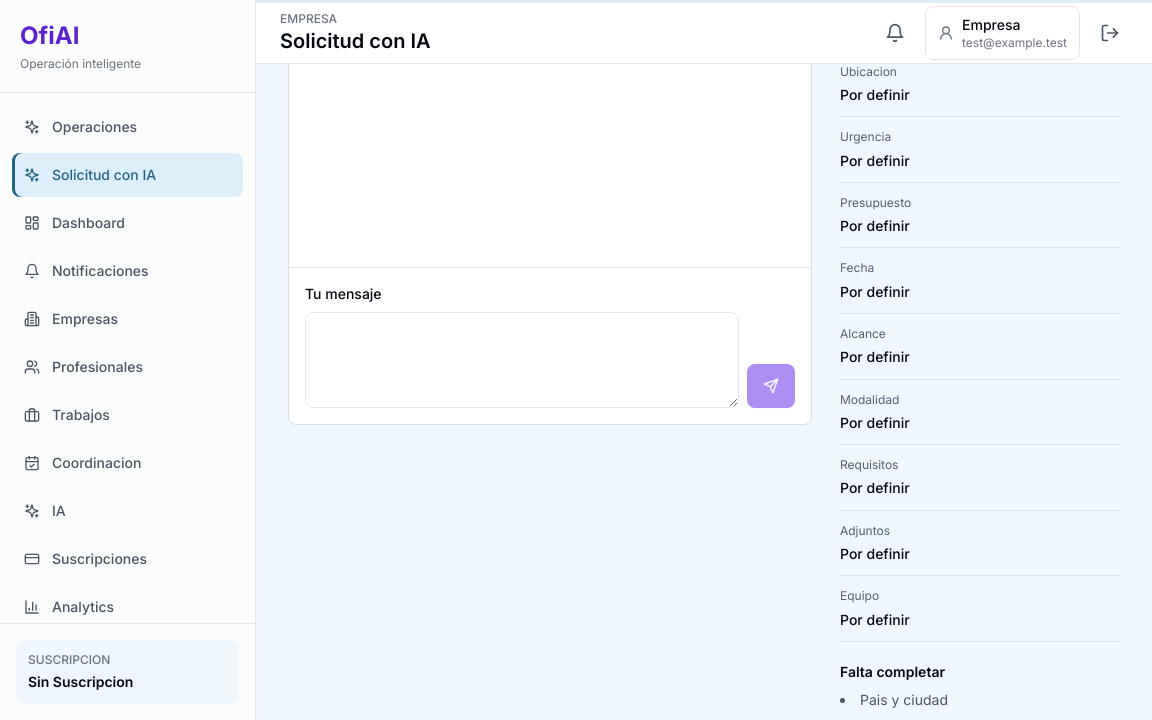
Scenario: recupera contexto y exige volver a completar datos despues de una correccion
The width and height of the screenshot is (1152, 720).
(page scrolled)
Step 1. Type "Detalle completo del edificio." into the text box labelled "Tu mensaje" → (522, 360), box [305,312,739,408]
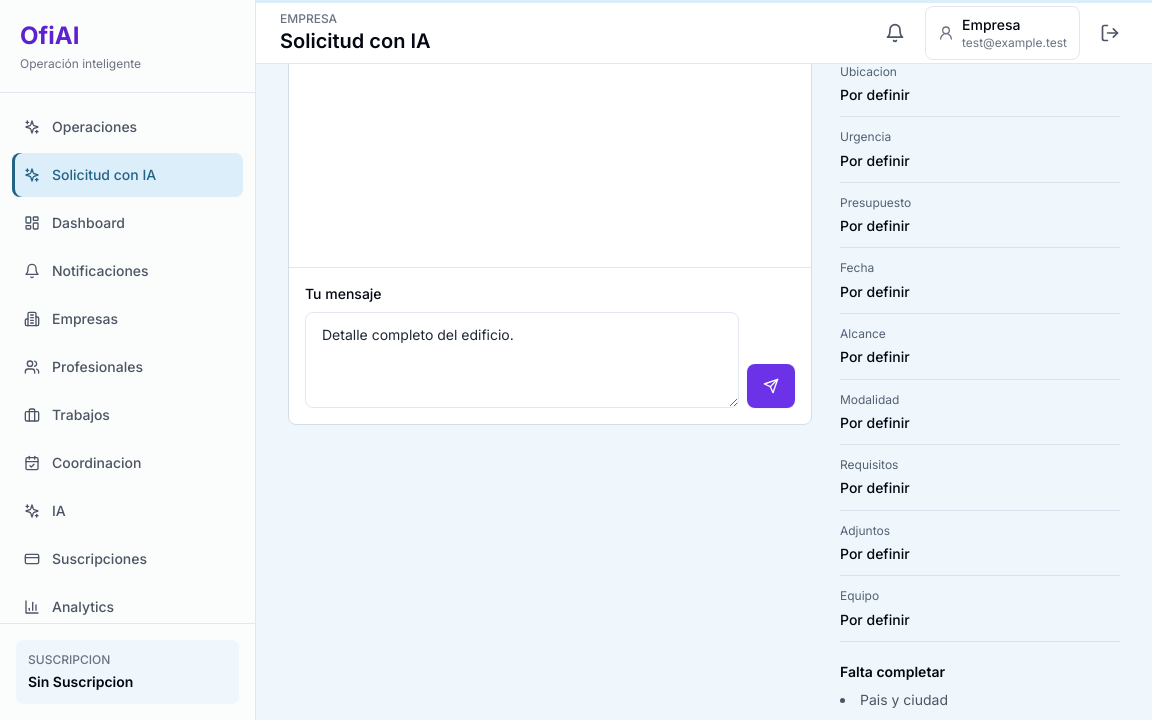
Step 2. Click the button named "Enviar mensaje" → (771, 386), box [747,364,795,408]
(page scrolled)
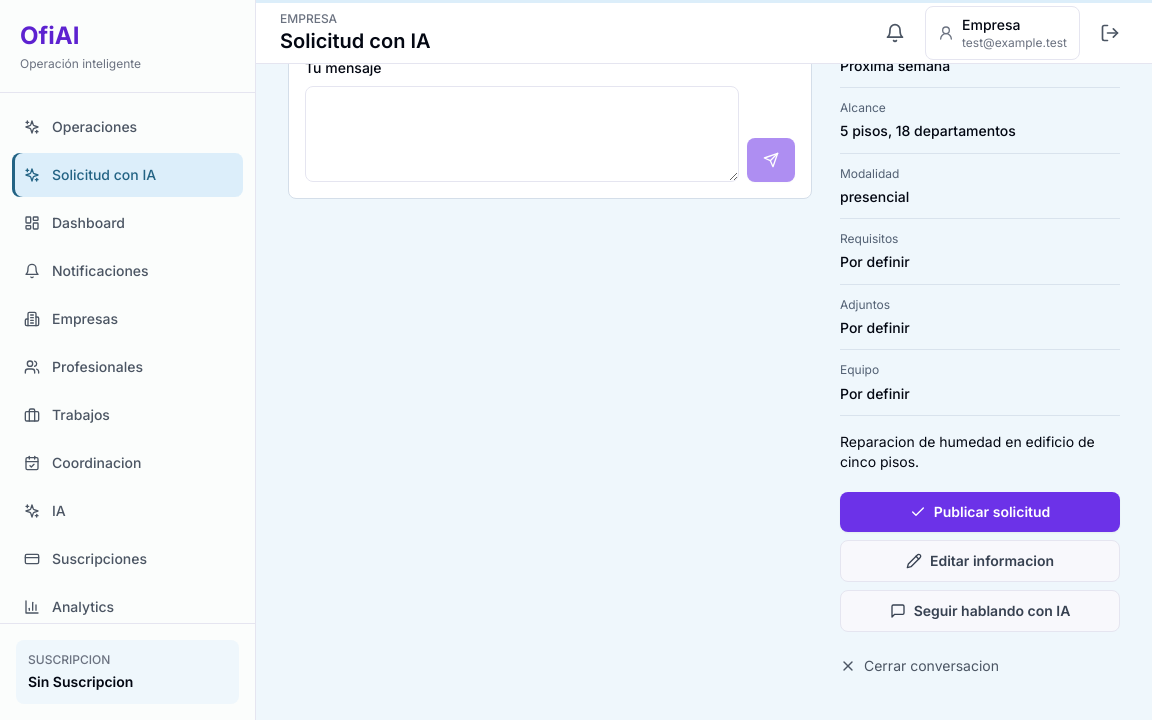
Step 3. Click the button "Editar informacion" → (980, 561), box [840,540,1120,582]
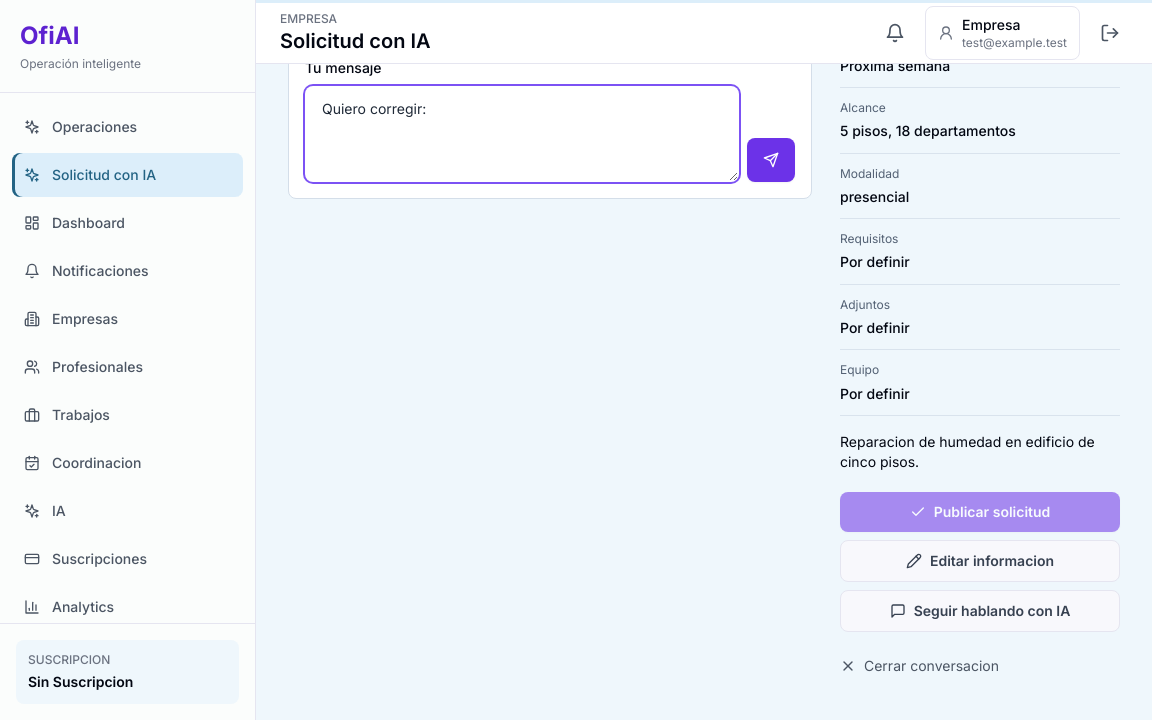
Now the button "Publicar solicitud" is disabled, box [840,492,1120,532]
Step 4. Replace the text in the text box labelled "Tu mensaje" with "Quiero corregir la ciudad." → (522, 134), box [305,86,739,182]
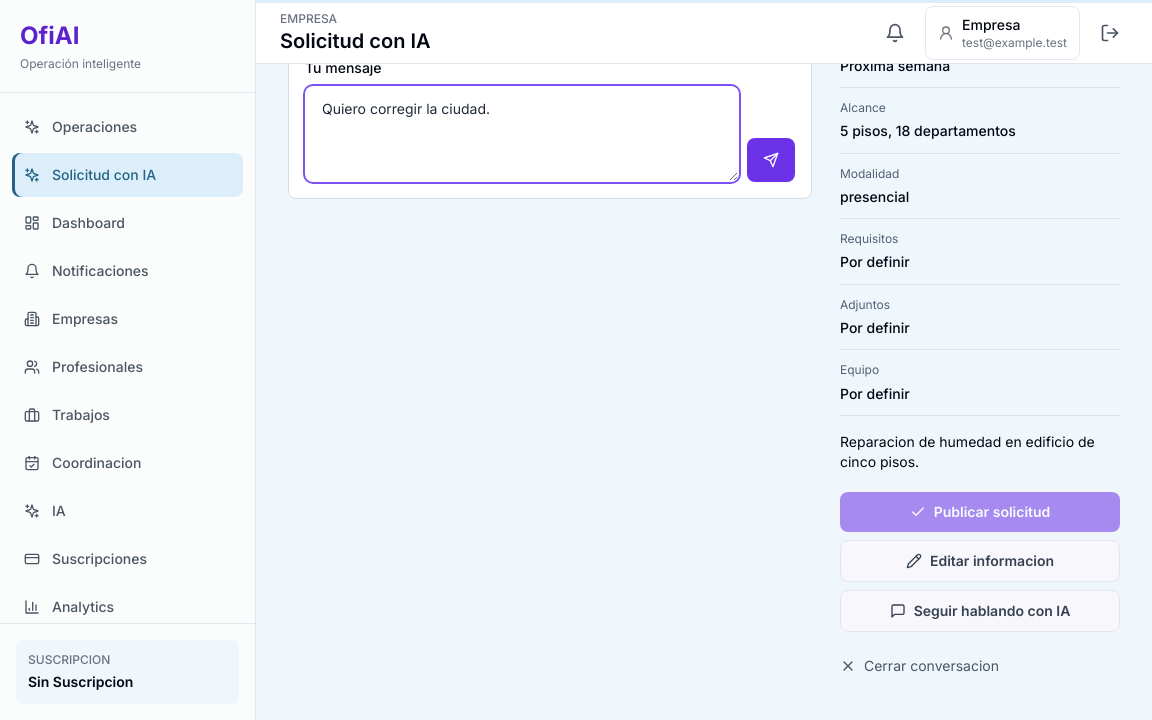
Step 5. Click the button named "Enviar mensaje" → (771, 160), box [747,138,795,182]
(page scrolled)
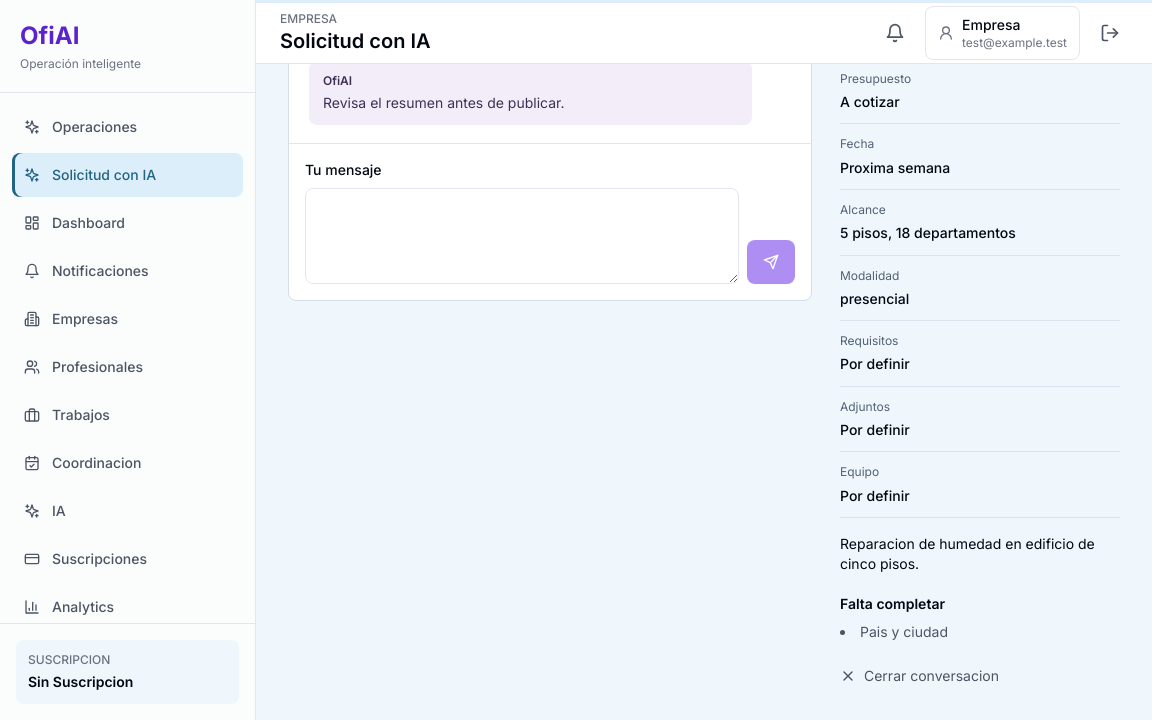
Now the button "Publicar solicitud" is gone
Now the heading "Falta completar" is shown, box [840,595,945,612]
